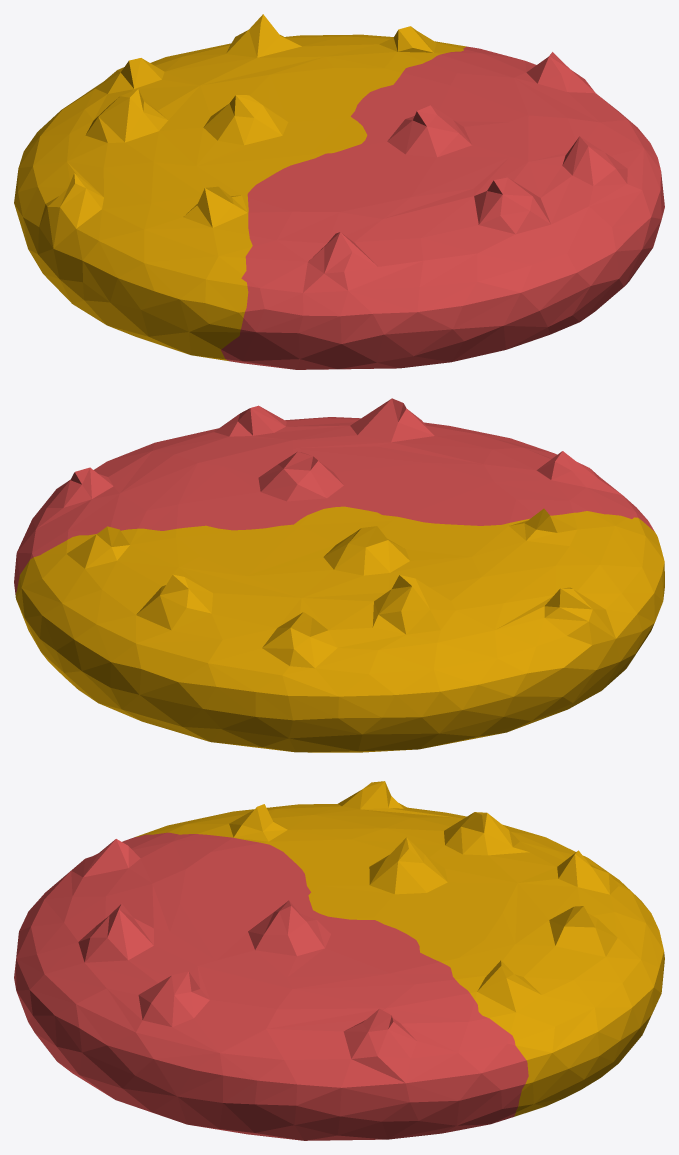
Rendered from fractured_25_2pcs.glb.
3 views of the same model, one above another, from view 1: azimuth 30°, elevation 25°; view 2: azimuth 150°, elevation 25°; view 3: azimuth 270°, elevation 25° (orthographic).
Parts seen in each view (by area): view 1: piece_1.obj, piece_0.obj; view 2: piece_0.obj, piece_1.obj; view 3: piece_1.obj, piece_0.obj.
Part boxes in pixels (<box>): piece_1.obj: <box>221,46,664,369</box>; piece_0.obj: <box>14,14,468,361</box>; piece_0.obj: <box>15,506,664,752</box>; piece_1.obj: <box>14,398,654,594</box>; piece_1.obj: <box>14,832,528,1140</box>; piece_0.obj: <box>135,781,664,1116</box>.
Size of the model in its own units: 0.9983 by 0.2496 by 1.
